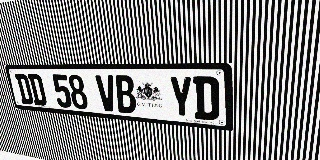5: (52, 74, 73, 108)
8: (67, 74, 89, 110)
B: (114, 75, 137, 114)
D: (193, 76, 219, 121), (27, 74, 48, 106), (14, 74, 34, 105)
V: (95, 75, 118, 112)
Y: (168, 76, 194, 119)
